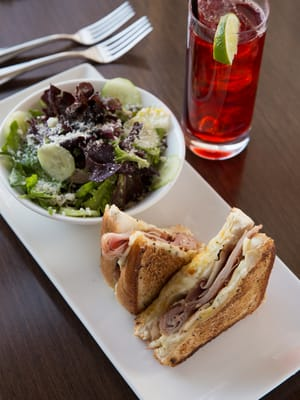burger: (0, 1, 154, 80)
pizza: (184, 0, 270, 160)
soup: (132, 209, 277, 367)
sushi: (0, 75, 186, 224)
